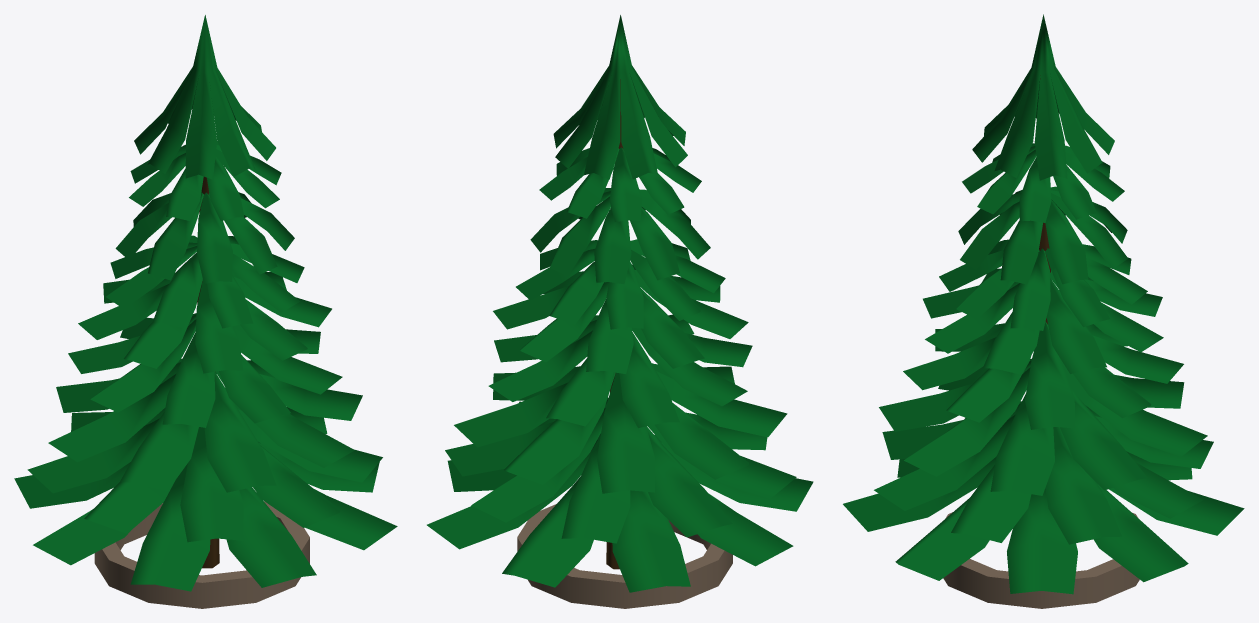
The model's file is Christmas_tree.fbx.
The picture shows the model from 3 angles, left to right: view 1: azimuth 30°, elevation 25°; view 2: azimuth 150°, elevation 25°; view 3: azimuth 270°, elevation 25°; orthographic projection.
Parts seen in each view (by area): view 1: Christmas_tree; view 2: Christmas_tree; view 3: Christmas_tree.
Part boxes in pixels (<box>): Christmas_tree: <box>14,15,397,608</box>; Christmas_tree: <box>427,15,813,608</box>; Christmas_tree: <box>843,14,1244,608</box>.
Size of the model in its own units: 119 by 180 by 119.
Materials: 1 (1 with a texture image).
